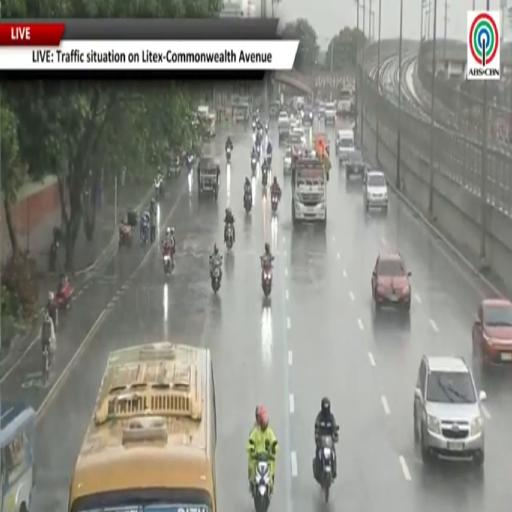bus: (69, 343, 216, 511), (0, 403, 35, 511)
car: (414, 356, 486, 466), (472, 298, 511, 365), (372, 252, 411, 312), (364, 170, 388, 213), (346, 150, 365, 180), (292, 126, 306, 145), (325, 102, 336, 124), (284, 147, 292, 174), (303, 107, 313, 125), (278, 110, 290, 124), (290, 116, 300, 130), (318, 102, 325, 119)
jeepney: (198, 156, 219, 200), (233, 102, 250, 122)
motorcycle: (315, 437, 336, 503), (252, 454, 272, 511), (56, 279, 74, 309), (49, 227, 61, 271), (42, 344, 51, 386), (119, 223, 133, 247), (163, 248, 175, 275), (167, 156, 181, 179), (211, 261, 221, 293), (262, 266, 272, 297), (49, 239, 58, 271), (225, 223, 233, 249), (141, 220, 149, 245), (154, 179, 163, 200), (164, 253, 172, 275), (244, 194, 252, 213), (186, 154, 194, 171), (271, 194, 278, 213), (262, 167, 268, 186), (256, 137, 261, 158), (226, 147, 232, 164), (251, 156, 257, 173), (258, 126, 264, 140), (267, 153, 272, 167), (252, 121, 256, 132), (265, 124, 269, 134)
truck: (292, 152, 327, 227), (336, 88, 354, 118), (325, 102, 336, 125)
